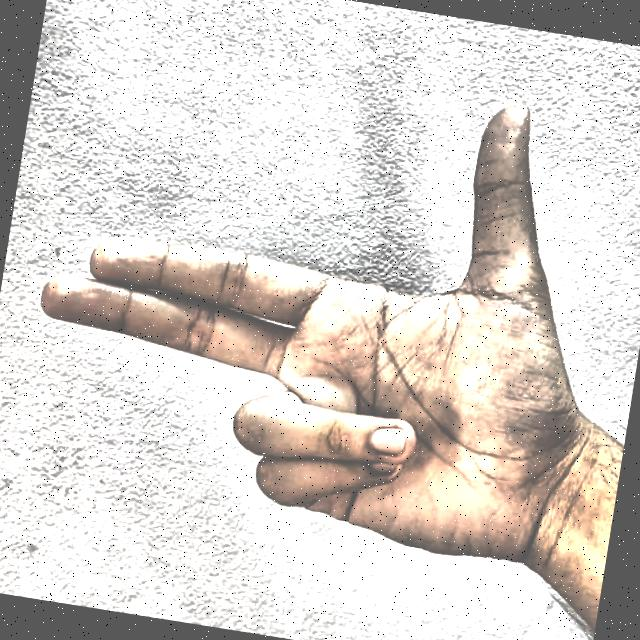Jha: (0, 11, 640, 640)
